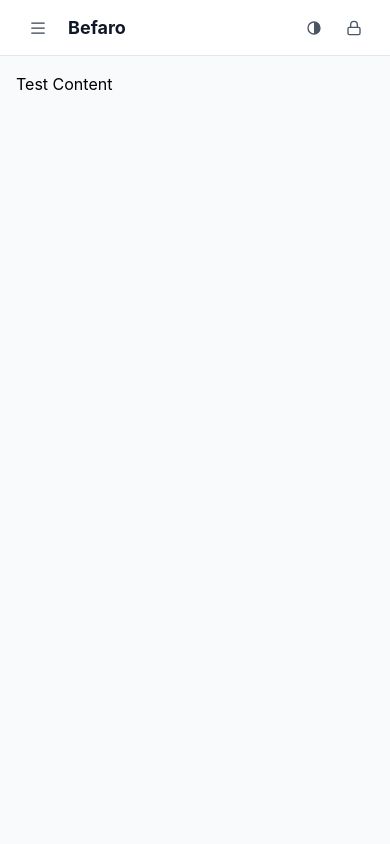
Scenario: AppShell › hamburger button opens NavDrawer; in-drawer burger closes it (BUG-02 + BUG-06)
Click the button with test id "header-hamburger": (38, 28) [16,6,60,50]
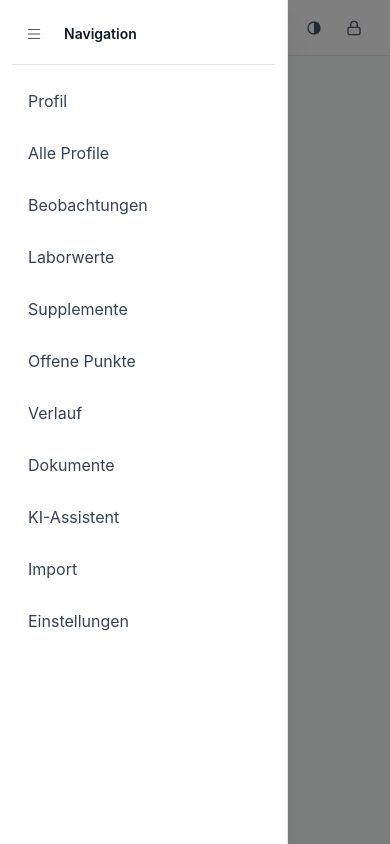
expect the element with test id "nav-drawer" is shown: met
Click the button with test id "nav-drawer-burger-close": (34, 34) [12,12,56,56]
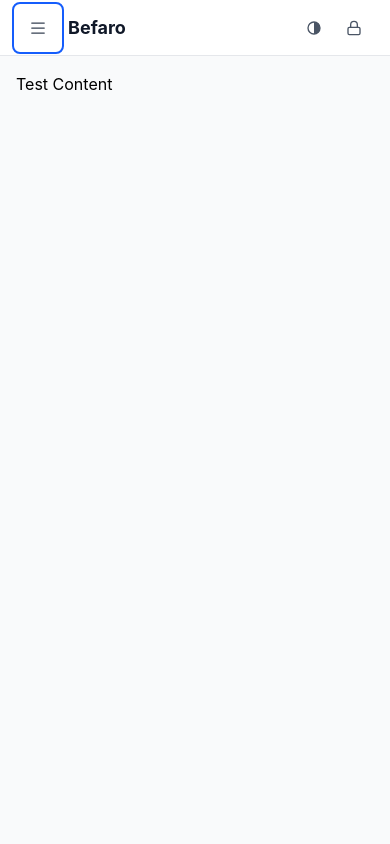
expect the element with test id "nav-drawer" is gone: met
